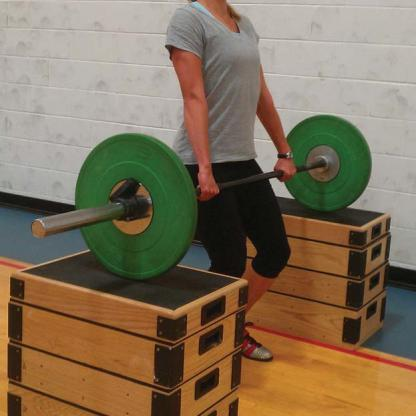barbell: (28, 111, 374, 282)
